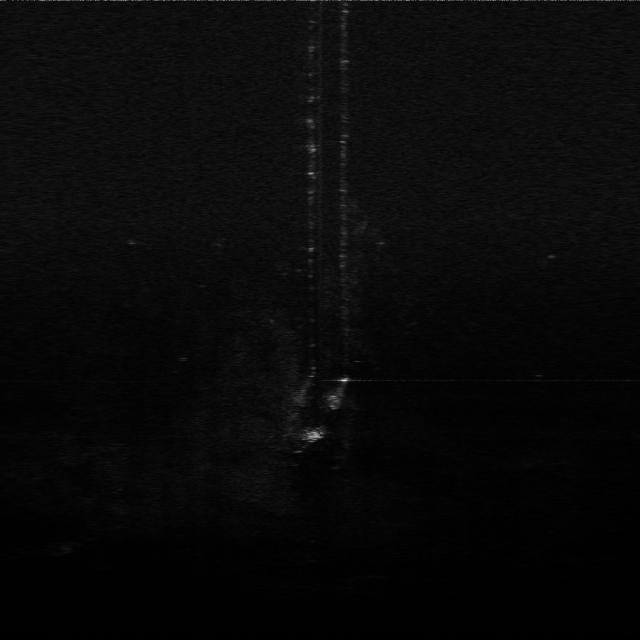rov: (300, 424, 336, 448)
